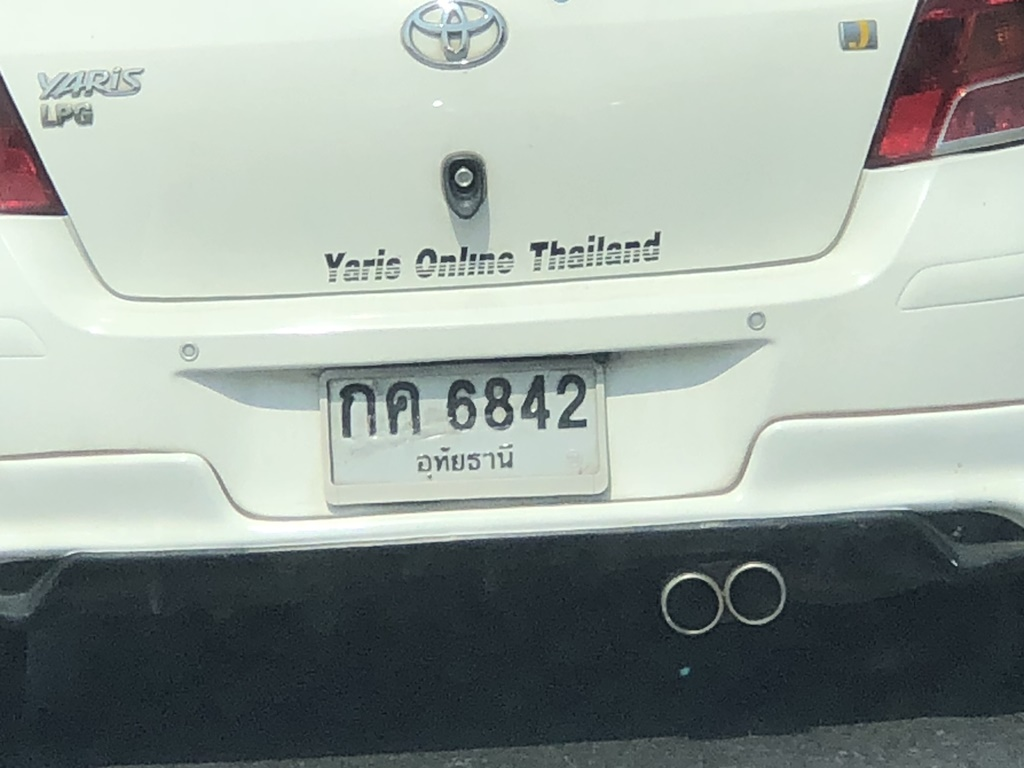eight: (479, 371, 520, 437)
nine: (433, 368, 486, 435)
plate: (317, 352, 614, 505)
